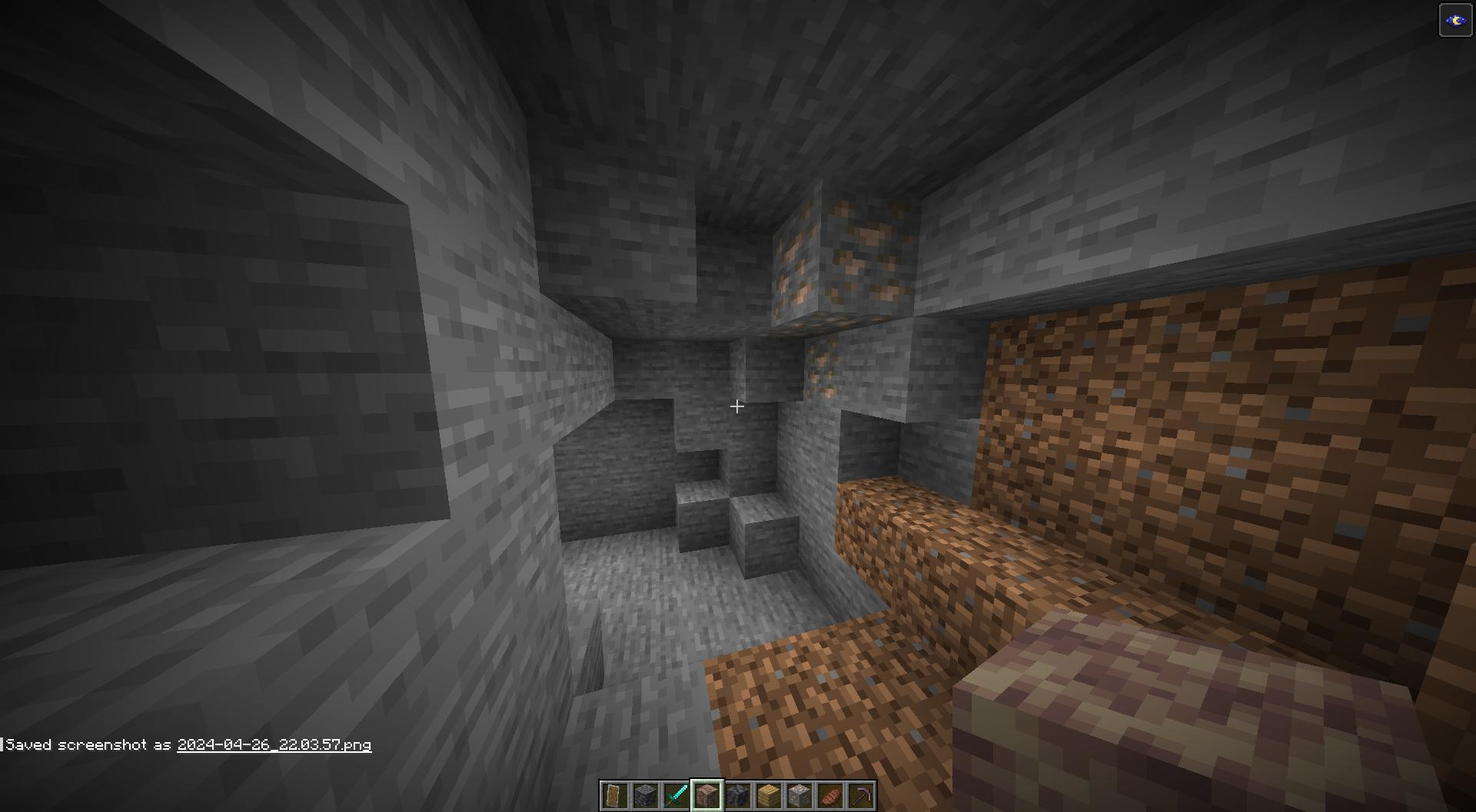iron ore: (818, 191, 918, 308), (768, 207, 816, 311), (797, 338, 839, 399)
